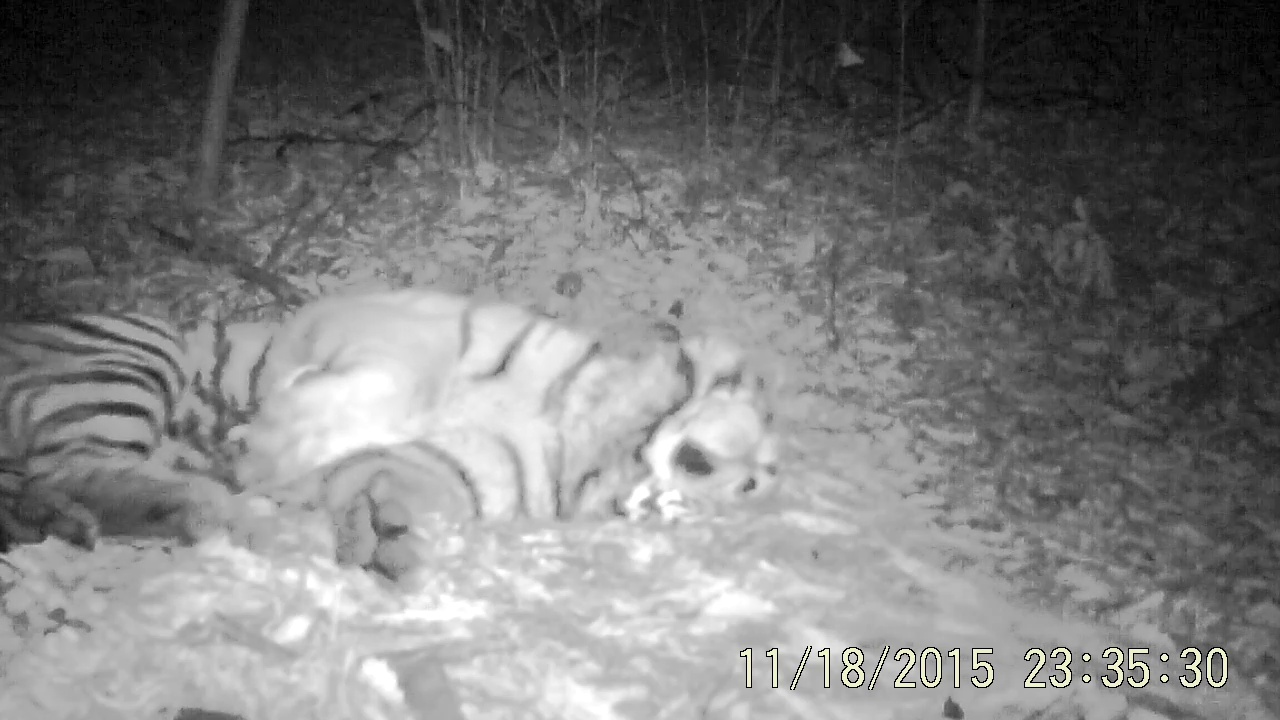Tiger: (4, 125, 942, 613)
